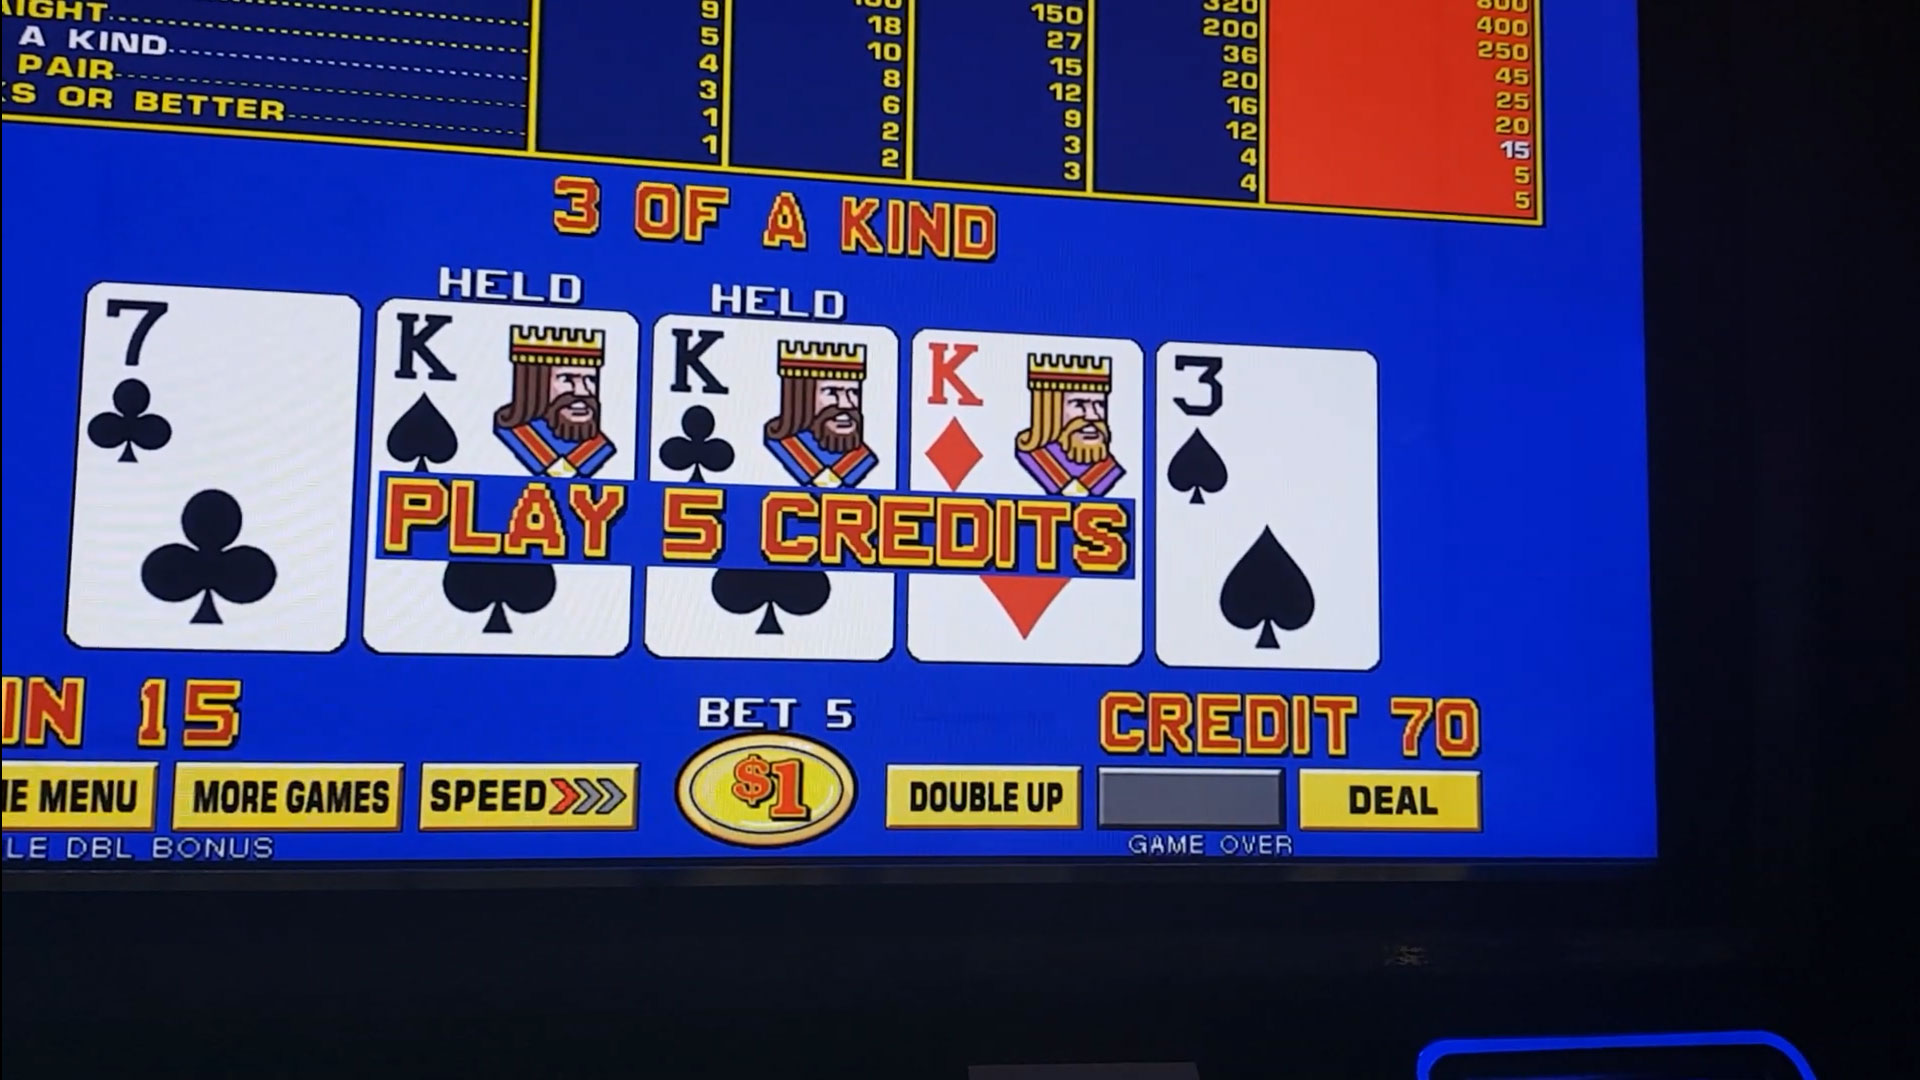C7: (86, 297, 353, 473)
CK: (659, 328, 891, 480)
DK: (918, 344, 1131, 487)
S3: (1162, 353, 1374, 517)
SK: (378, 314, 633, 469)
